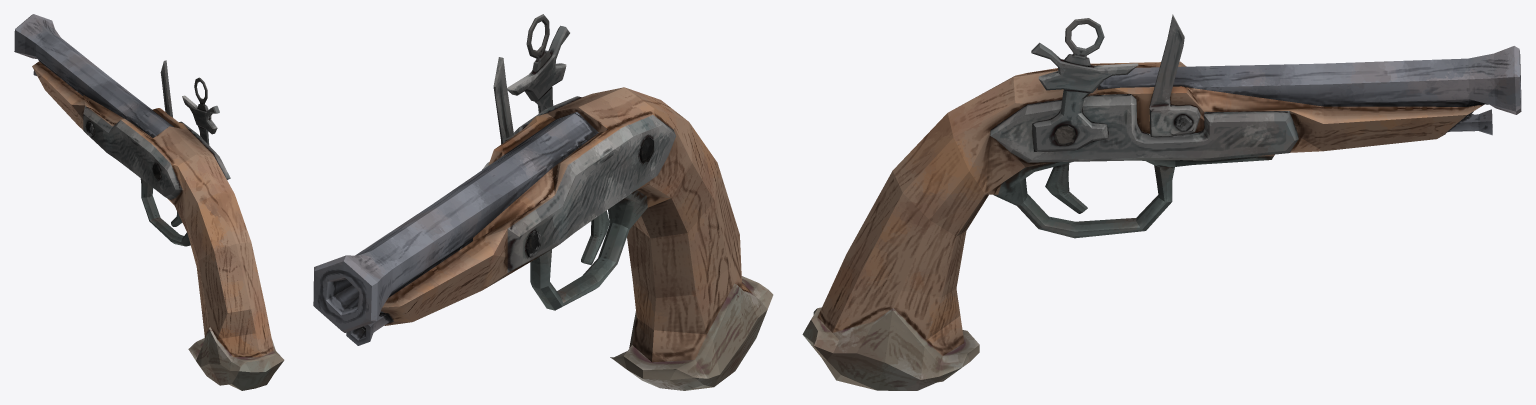
The model's file is flintlock.glb.
3 views of the same model, side by side, from view 1: azimuth 30°, elevation 25°; view 2: azimuth 150°, elevation 25°; view 3: azimuth 270°, elevation 25° (orthographic). The views are drawn at different scales.
Visible parts, largest first — view 1: Cube_011, Cube_015, Cube_014; view 2: Cube_011, Cube_015, Cube_014, Cube_019; view 3: Cube_011, Cube_015, Cube_014, Cube_019.
Part boxes in pixels (x1,y1,x2,y2): Cube_011: [14, 14, 284, 390]; Cube_015: [182, 77, 219, 144]; Cube_014: [160, 60, 172, 117]; Cube_011: [313, 87, 773, 390]; Cube_015: [507, 14, 569, 113]; Cube_014: [482, 57, 514, 169]; Cube_019: [581, 210, 609, 264]; Cube_011: [802, 46, 1521, 390]; Cube_015: [1031, 18, 1138, 151]; Cube_014: [1149, 14, 1200, 136]; Cube_019: [1045, 163, 1087, 213].
Size of the model in its own units: 0.0664 by 0.2566 by 0.4415.
Materials: 1 (1 with a texture image).
